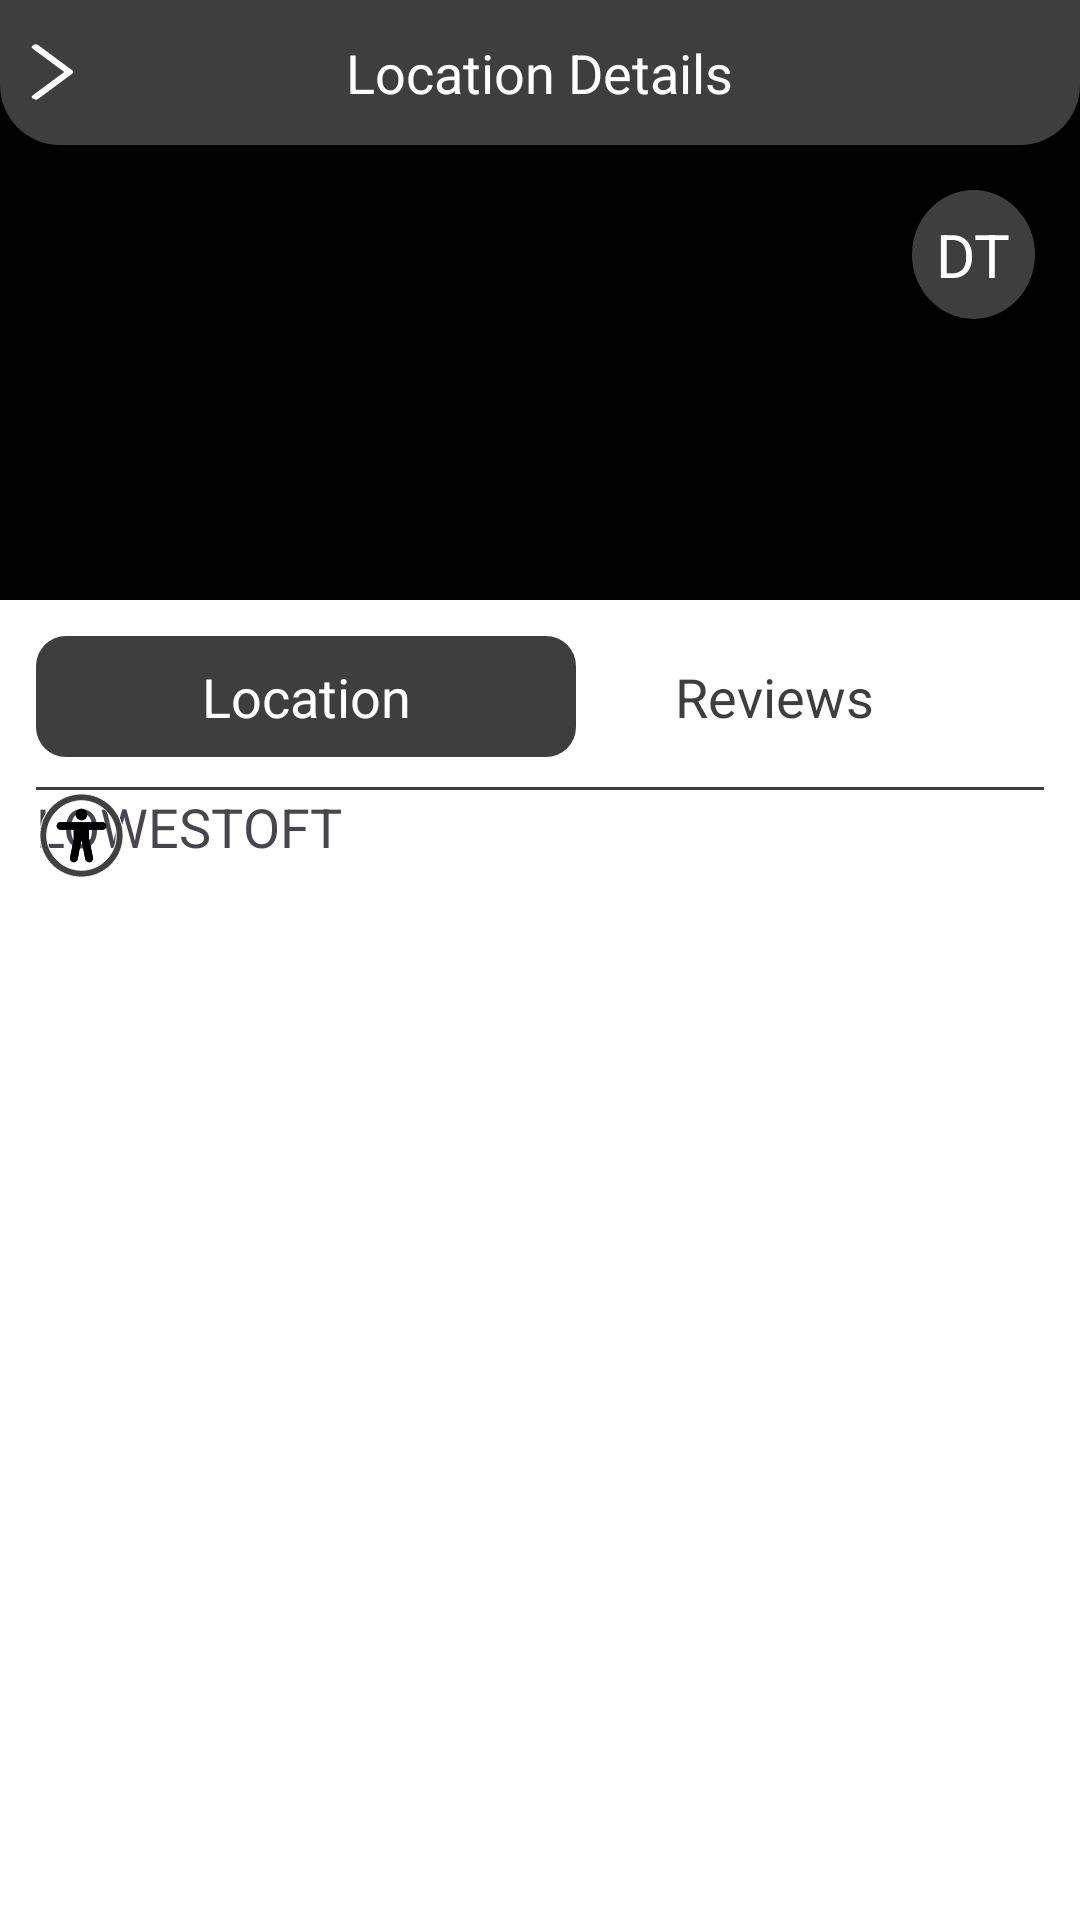

Point at icon controls on the screen. Image size 1080px x 1920px, points as (x=x, y=y).
right arrow: (x=52, y=72)
